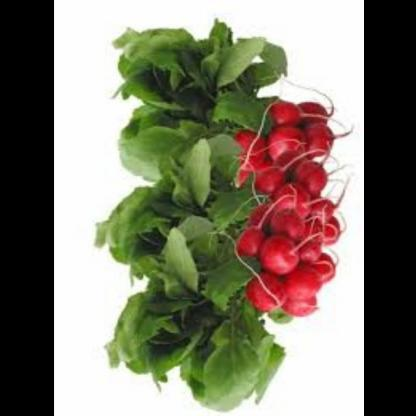rediska: (228, 86, 347, 322)
